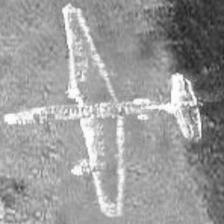plane: (5, 6, 203, 215)
